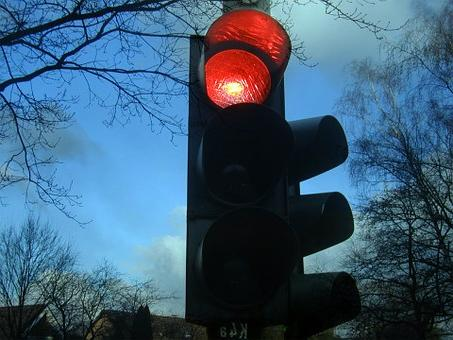trafic: (195, 19, 288, 307)
